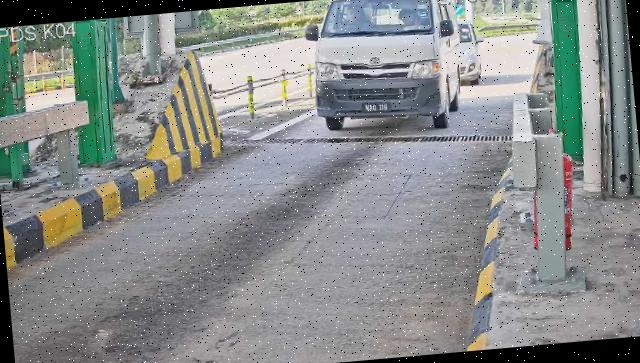License_Plate: (361, 101, 393, 118)
van: (308, 1, 466, 140)
